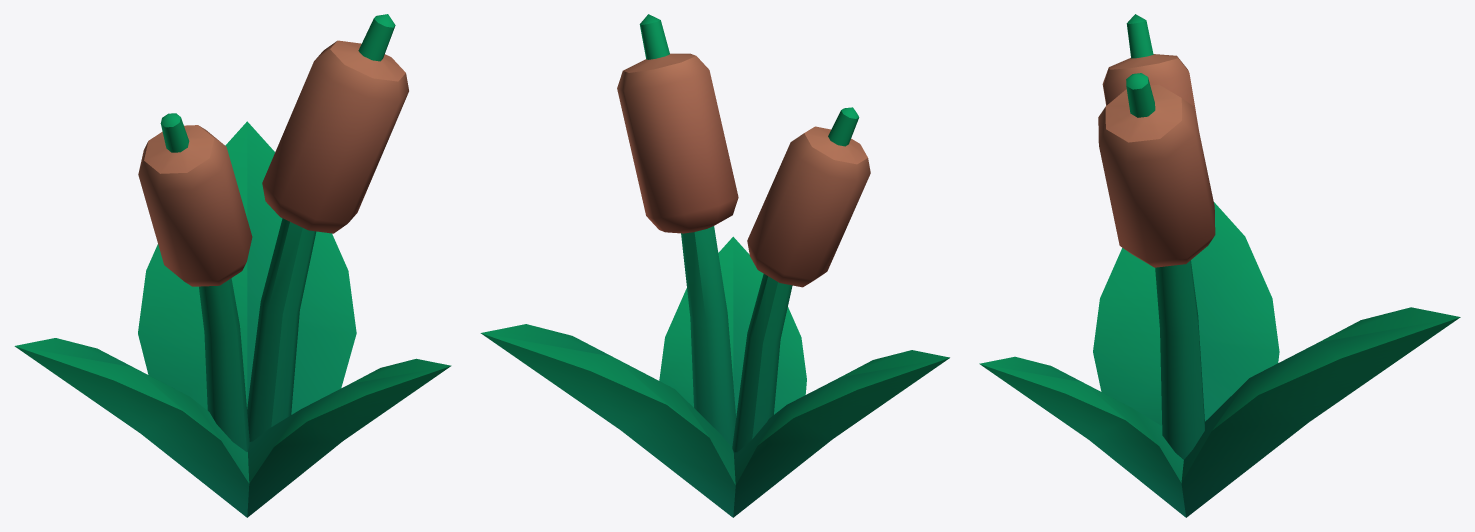
Rendered from waterplant_c.glb.
3 renders of one model, left to right at view 1: azimuth 30°, elevation 25°; view 2: azimuth 150°, elevation 25°; view 3: azimuth 270°, elevation 25°, orthographic. The views are drawn at different scales.
Parts seen in each view (by area): view 1: waterplant_c; view 2: waterplant_c; view 3: waterplant_c.
Part boxes in pixels (<box>): waterplant_c: <box>14,14,451,517</box>; waterplant_c: <box>480,14,949,517</box>; waterplant_c: <box>979,14,1460,517</box>.
Size of the model in its own units: 0.0991 by 0.1236 by 0.1078.
Materials: 1 (1 with a texture image).
